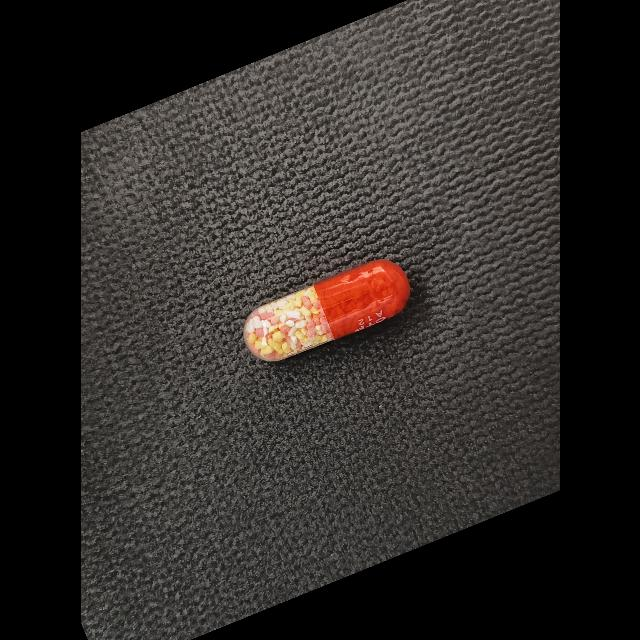Intact Capsule: (243, 260, 410, 361)
